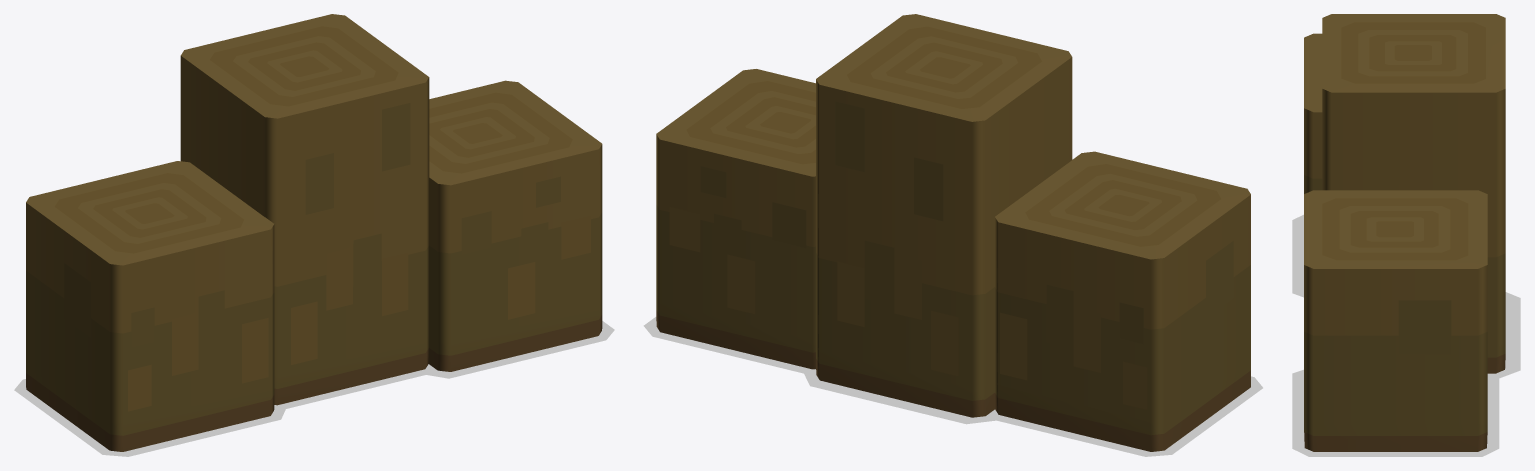
The model's file is MG_wall_wood_rect_small.fbx.
The picture shows the model from 3 angles, left to right: view 1: azimuth 30°, elevation 25°; view 2: azimuth 150°, elevation 25°; view 3: azimuth 270°, elevation 25°; orthographic projection. The views are drawn at different scales.
Visible parts, largest first — view 1: model, ground; view 2: model, ground; view 3: model, ground.
Part boxes in pixels (left/top/right/bottom): model: left=26, top=14, right=602, bottom=451; ground: left=14, top=321, right=614, bottom=456; model: left=656, top=14, right=1250, bottom=451; ground: left=643, top=317, right=1262, bottom=456; model: left=1304, top=14, right=1505, bottom=451; ground: left=1292, top=214, right=1520, bottom=456.
Size of the model in its own units: 9.48 by 5.07 by 3.73.
